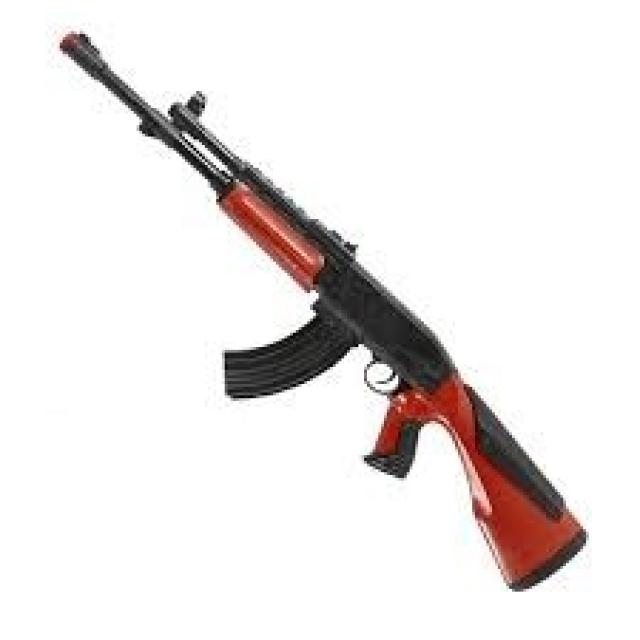rifle: (53, 27, 594, 594)
